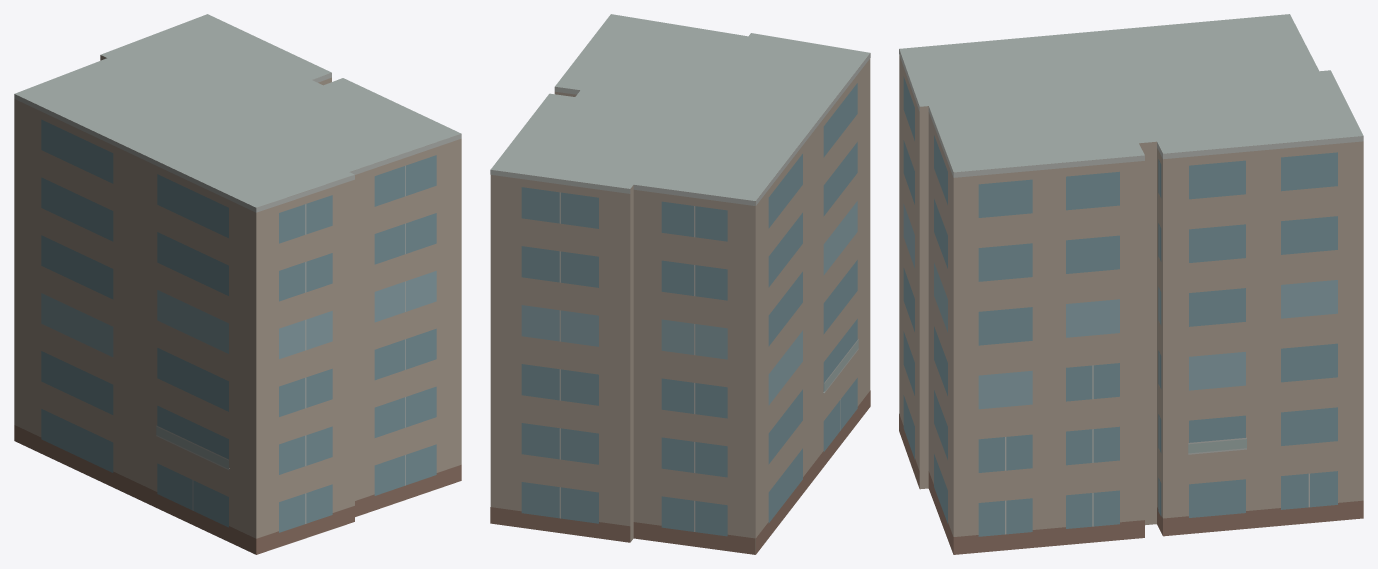
File: survey-upis-32698529.glb
3 renders of one model, left to right at view 1: azimuth 30°, elevation 25°; view 2: azimuth 150°, elevation 25°; view 3: azimuth 270°, elevation 25°, orthographic. The views are drawn at different scales.
Parts seen in each view (by area): view 1: survey-upis-32698529.tmp; view 2: survey-upis-32698529.tmp; view 3: survey-upis-32698529.tmp.
Boxes of the visible parts, left/top/right/bottom form: survey-upis-32698529.tmp: left=14, top=14, right=461, bottom=554; survey-upis-32698529.tmp: left=490, top=14, right=870, bottom=554; survey-upis-32698529.tmp: left=899, top=14, right=1363, bottom=554.
Size of the model in its own units: 15.29 by 17.2 by 18.94.
